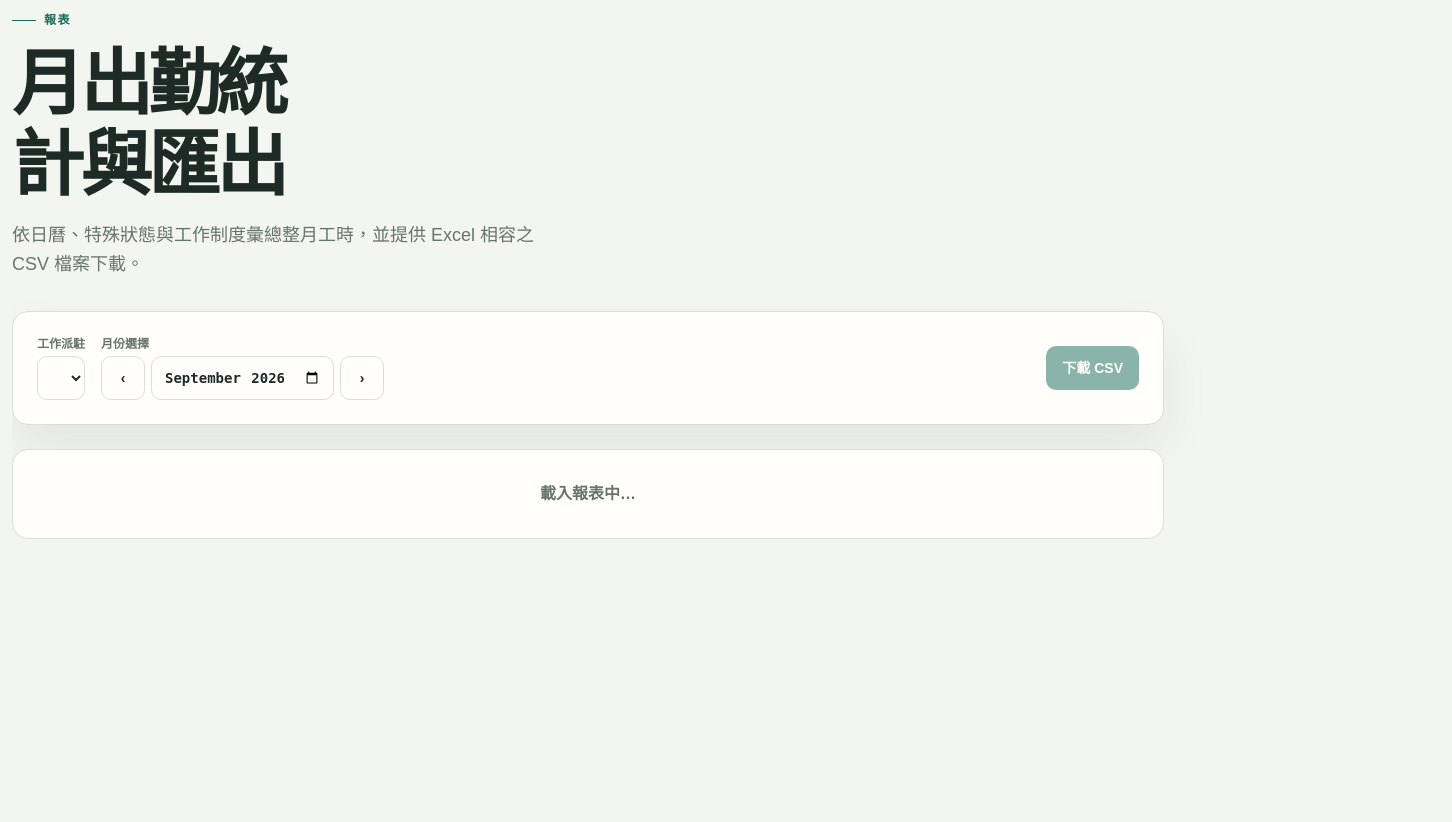
Test: ReportView › 呈現 incomplete 與 exception flags 標記
Replace the text in the field with test id "month-input" with "2026-08" at (242, 378), box [151,356,334,400]
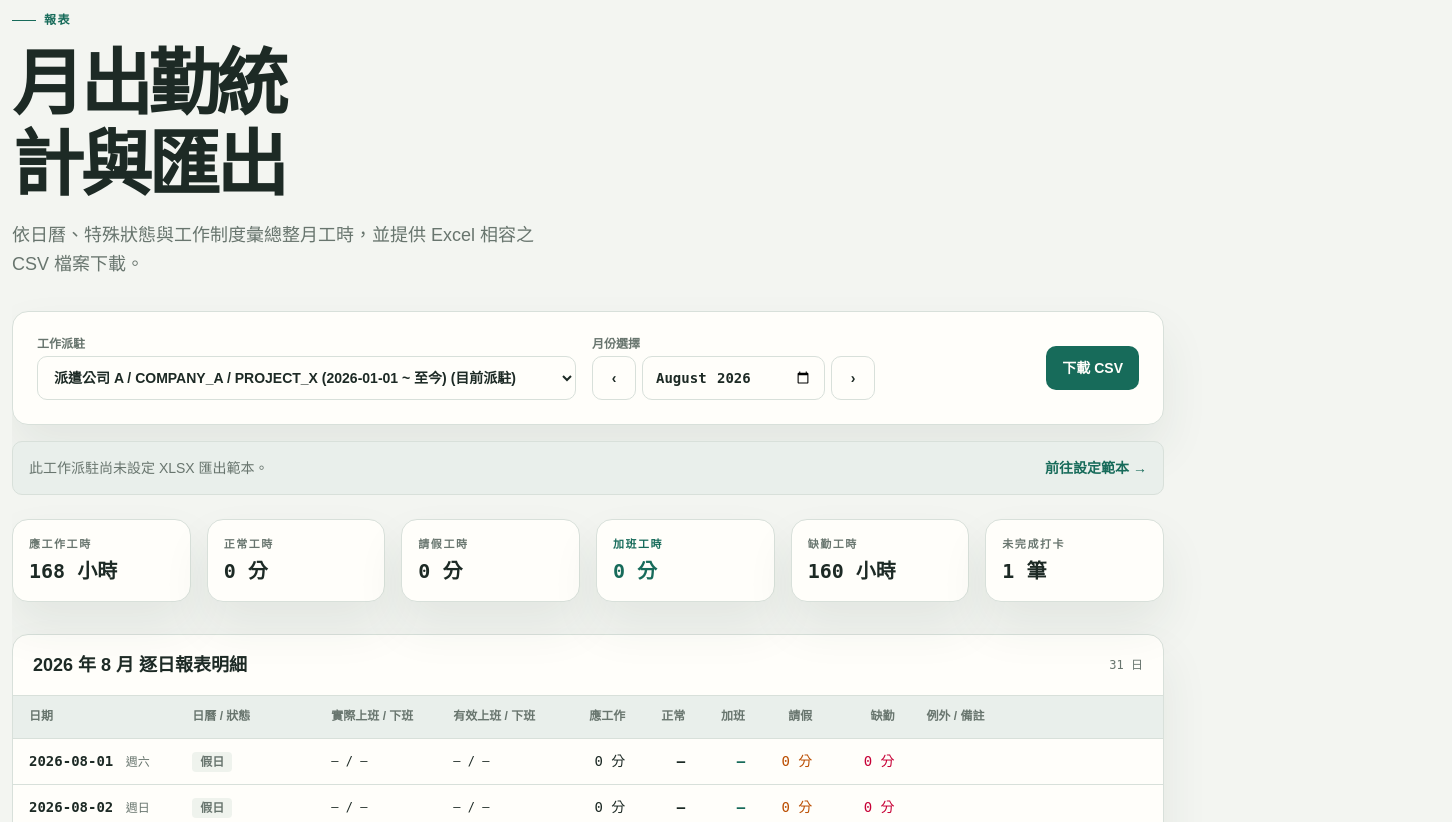
Expected: the text "未完成" is shown, [1002,538,1065,550]
